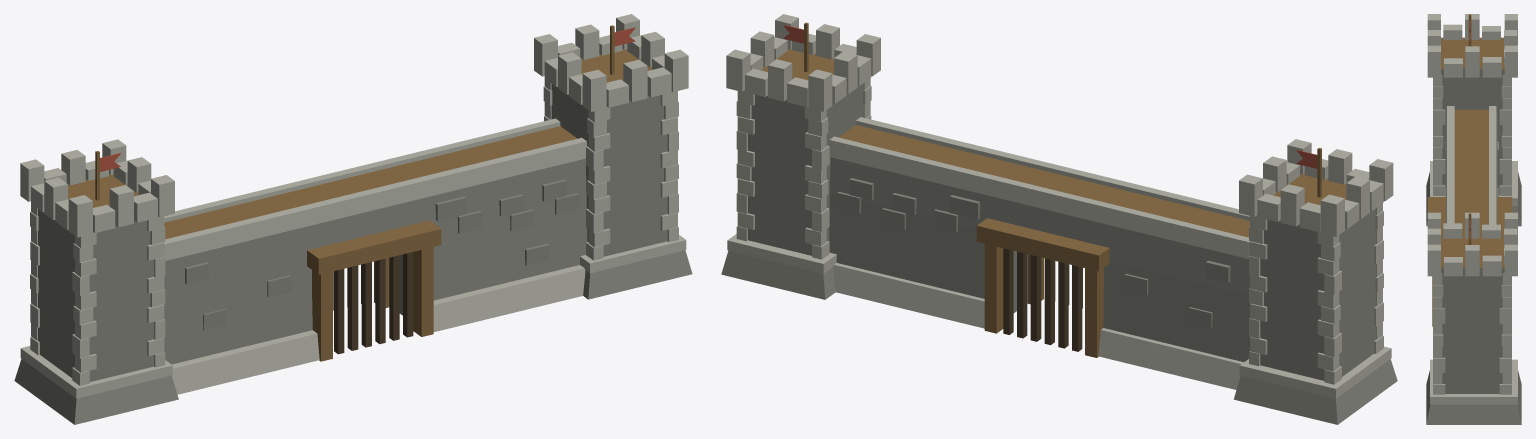
File: castleGate.glb
The picture shows the model from 3 angles, left to right: view 1: azimuth 30°, elevation 25°; view 2: azimuth 150°, elevation 25°; view 3: azimuth 270°, elevation 25°; orthographic projection. The views are drawn at different scales.
Visible parts, largest first — view 1: WallTowers_DoorClosed_SecondAge; view 2: WallTowers_DoorClosed_SecondAge; view 3: WallTowers_DoorClosed_SecondAge.
Boxes of the visible parts, x1,y1,x2,y2 form: WallTowers_DoorClosed_SecondAge: (14, 14, 692, 424); WallTowers_DoorClosed_SecondAge: (721, 14, 1397, 424); WallTowers_DoorClosed_SecondAge: (1426, 14, 1521, 424).
Bounding box in the file's own units: 1.98 × 0.7371 × 0.3333.
